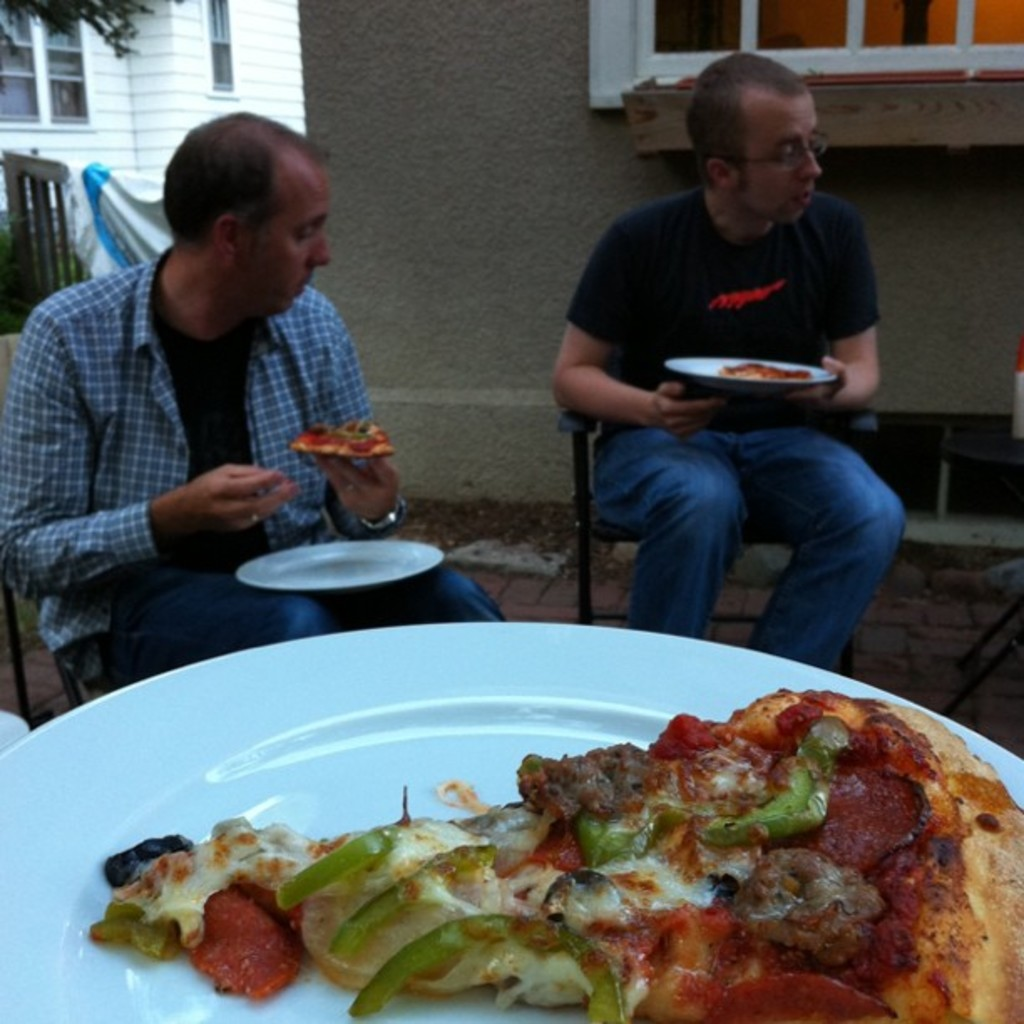Pizza: (92, 691, 1022, 1022), (287, 409, 388, 453), (721, 358, 814, 384)
